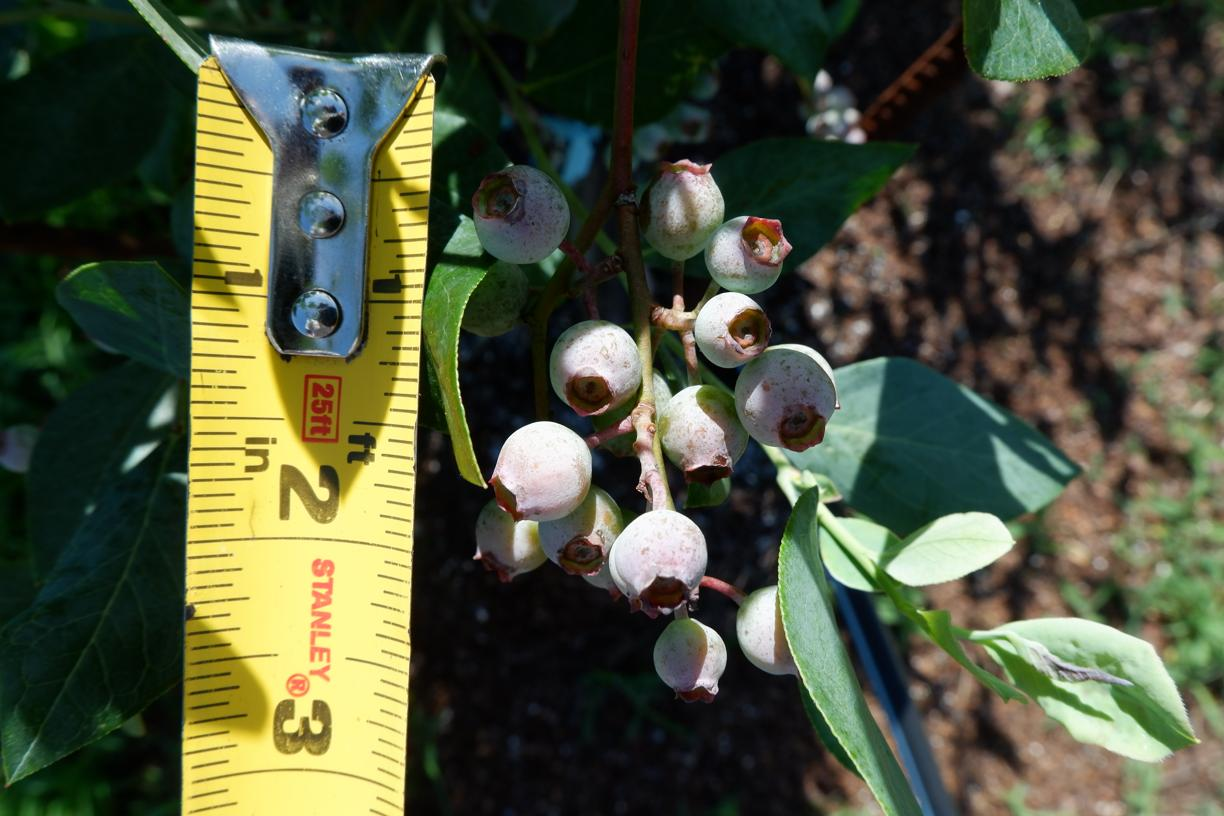Immature: (734, 342, 839, 453), (609, 509, 709, 620), (490, 421, 593, 524), (473, 166, 570, 265), (659, 383, 750, 488), (637, 156, 726, 263), (549, 318, 643, 416), (537, 484, 624, 576), (591, 367, 673, 456), (704, 216, 793, 294), (653, 617, 730, 705), (735, 583, 800, 679), (694, 292, 772, 368), (473, 501, 547, 581), (462, 260, 533, 338), (584, 560, 623, 602)
